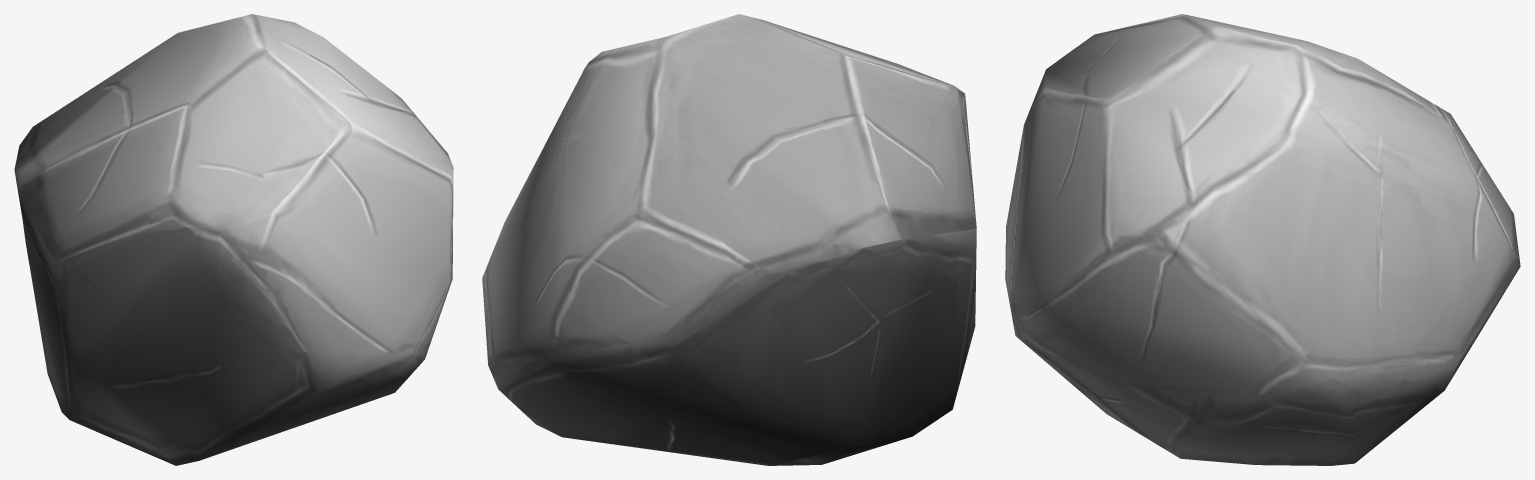
The model's file is RockType03_00.FBX.
The picture shows the model from 3 angles, left to right: view 1: azimuth 30°, elevation 25°; view 2: azimuth 150°, elevation 25°; view 3: azimuth 270°, elevation 25°; orthographic projection. The views are drawn at different scales.
Parts seen in each view (by area): view 1: Rock_03; view 2: Rock_03; view 3: Rock_03.
Part boxes in pixels (box(x1,y1,x2,y2)): Rock_03: box(14, 14, 453, 465); Rock_03: box(482, 14, 976, 465); Rock_03: box(1005, 14, 1520, 465).
Bounding box in the file's own units: 35.82 × 31.81 × 38.59.
